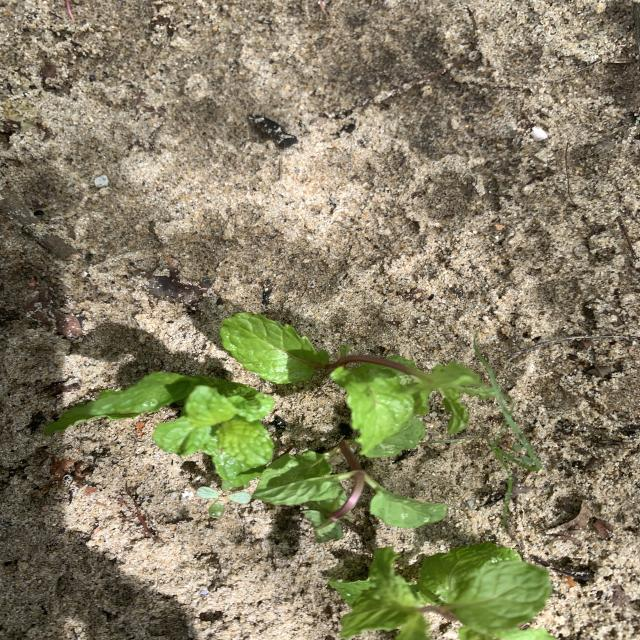crop: (220, 313, 483, 457), (44, 372, 274, 487), (329, 542, 556, 640), (253, 441, 446, 543)
weed: (473, 339, 542, 525), (197, 486, 251, 518)
